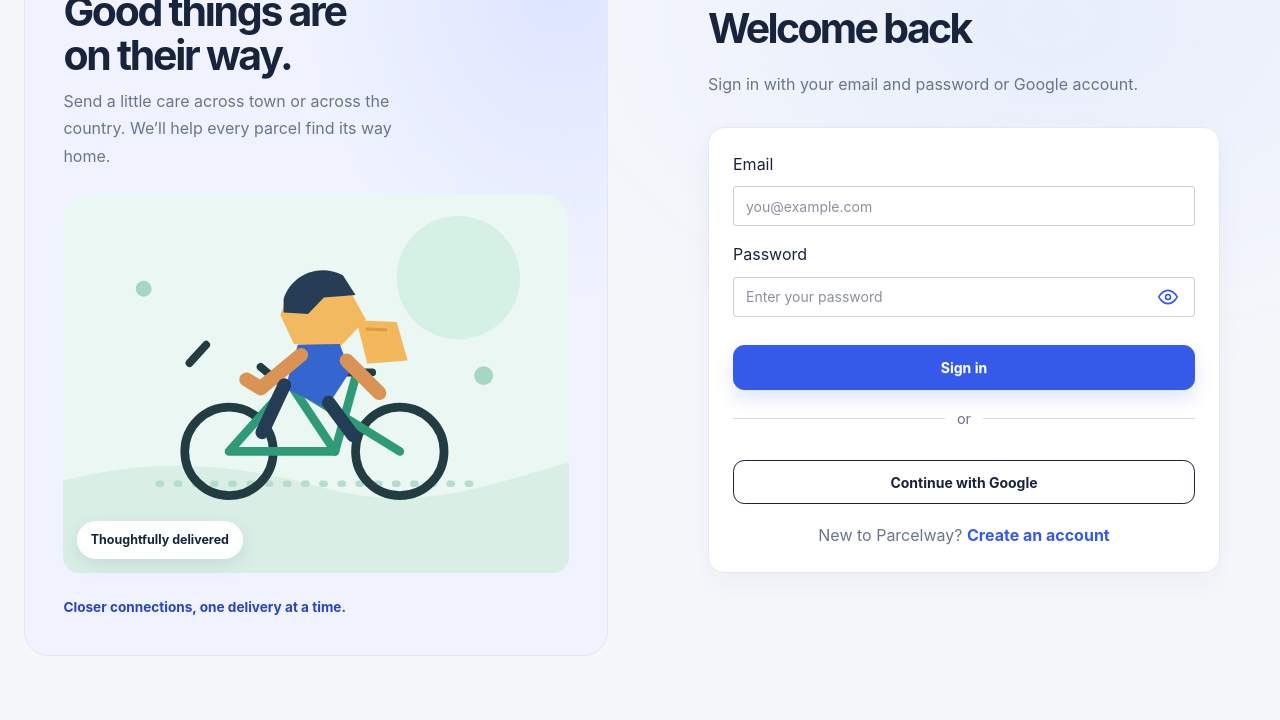
Test case: Firebase account access page › requires every registration field
(page scrolled)
Click the button "Create an account".
click(1038, 535)  # box [967,522,1110,548]
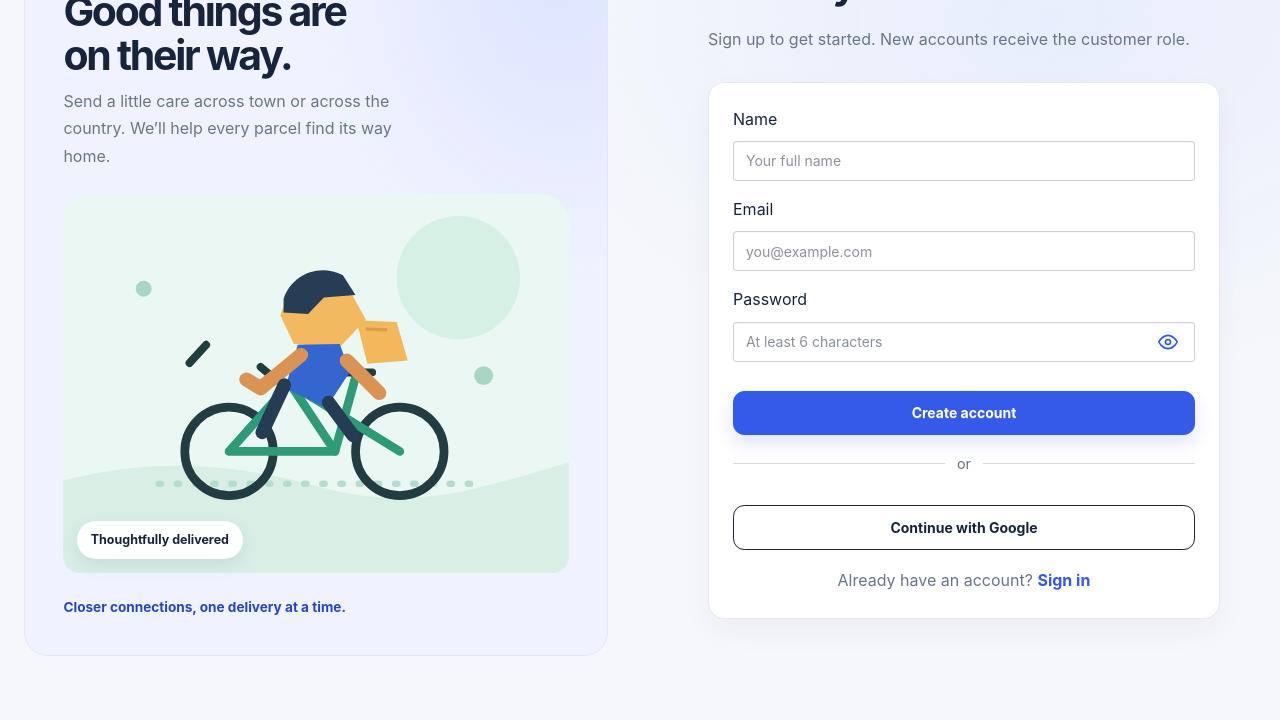
Click the button "Create account".
click(964, 413)  # box [733,390,1195,435]
(page scrolled)
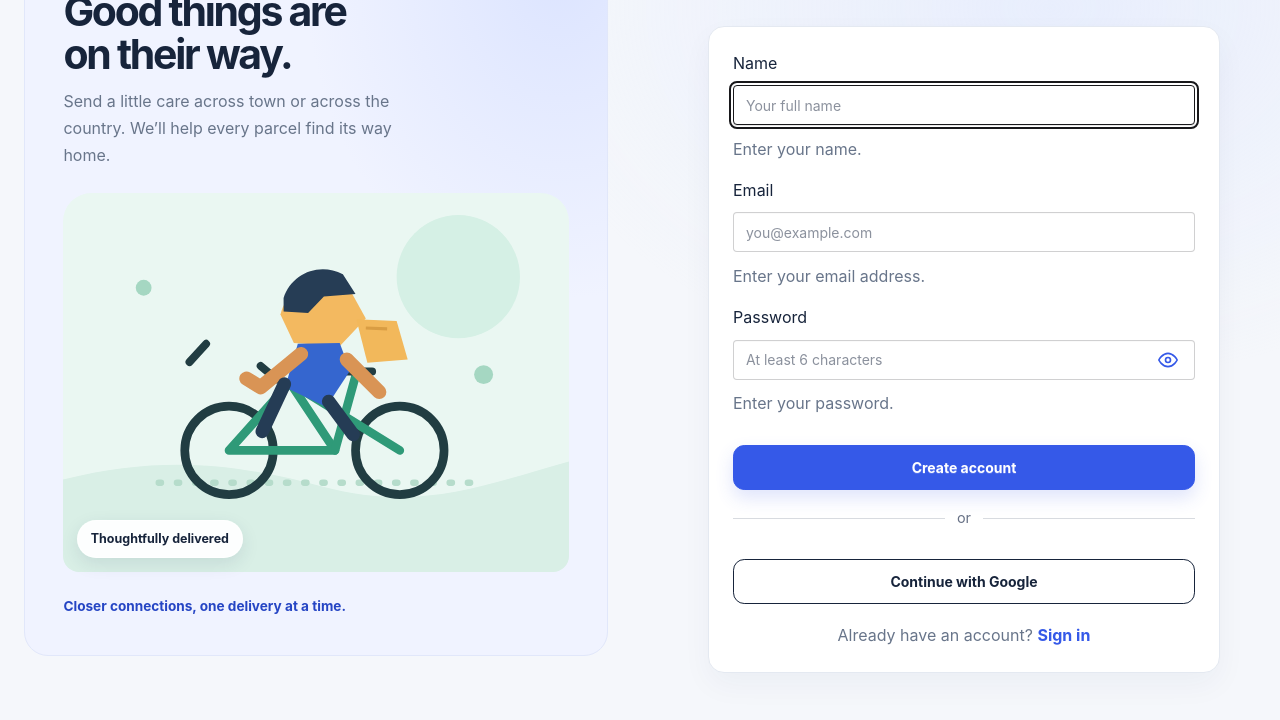
Result: the text "Enter your name." is shown at [733,138,862,158]
Result: the text "Enter your email address." is shown at [733,266,925,286]
Result: the text "Enter your password." is shown at [733,393,894,413]
